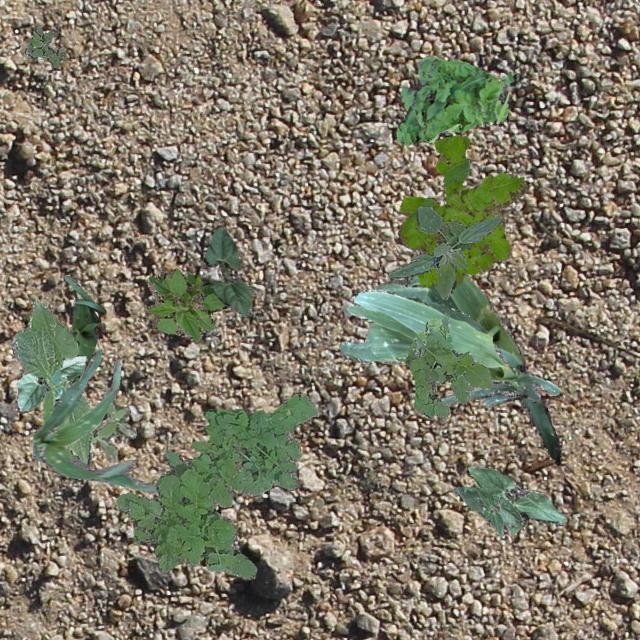crop: (370, 246, 560, 464), (338, 288, 558, 406), (32, 348, 156, 492), (10, 298, 90, 466), (467, 466, 565, 534), (202, 225, 250, 316), (64, 274, 104, 382), (14, 354, 86, 412), (452, 486, 522, 536)
weed: (115, 392, 318, 578), (398, 134, 526, 286), (396, 55, 518, 144), (388, 204, 502, 298), (404, 316, 492, 416), (142, 268, 226, 340), (88, 398, 136, 462), (24, 24, 66, 68)
